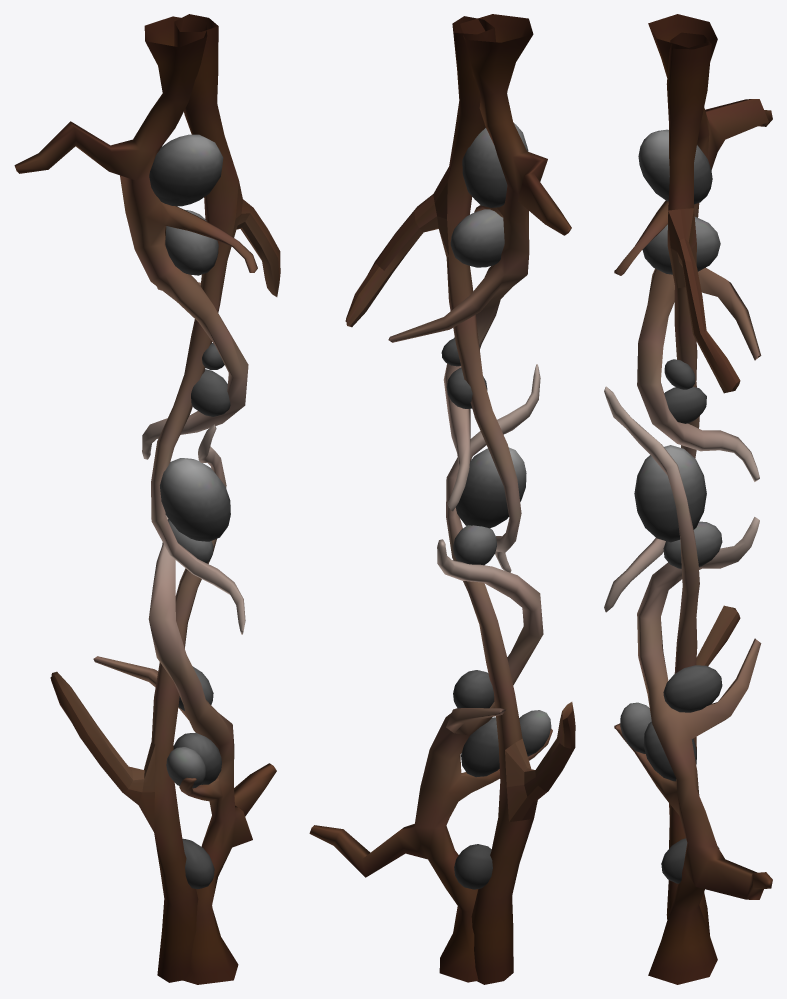
File: M_Interactable_Obstacle_DashClosed_01.fbx
3 renders of one model, left to right at view 1: azimuth 30°, elevation 25°; view 2: azimuth 150°, elevation 25°; view 3: azimuth 270°, elevation 25°, orthographic. The views are drawn at different scales.
Visible parts, largest first — view 1: M_Interactable_Obstacle_DashClosed_01; view 2: M_Interactable_Obstacle_DashClosed_01; view 3: M_Interactable_Obstacle_DashClosed_01.
Boxes of the visible parts, <box> form: M_Interactable_Obstacle_DashClosed_01: <box>14,14,280,984</box>; M_Interactable_Obstacle_DashClosed_01: <box>309,14,575,984</box>; M_Interactable_Obstacle_DashClosed_01: <box>604,14,772,984</box>.
Bounding box in the file's own units: 160 × 554 × 91.63.
1 material, 1 textured.
